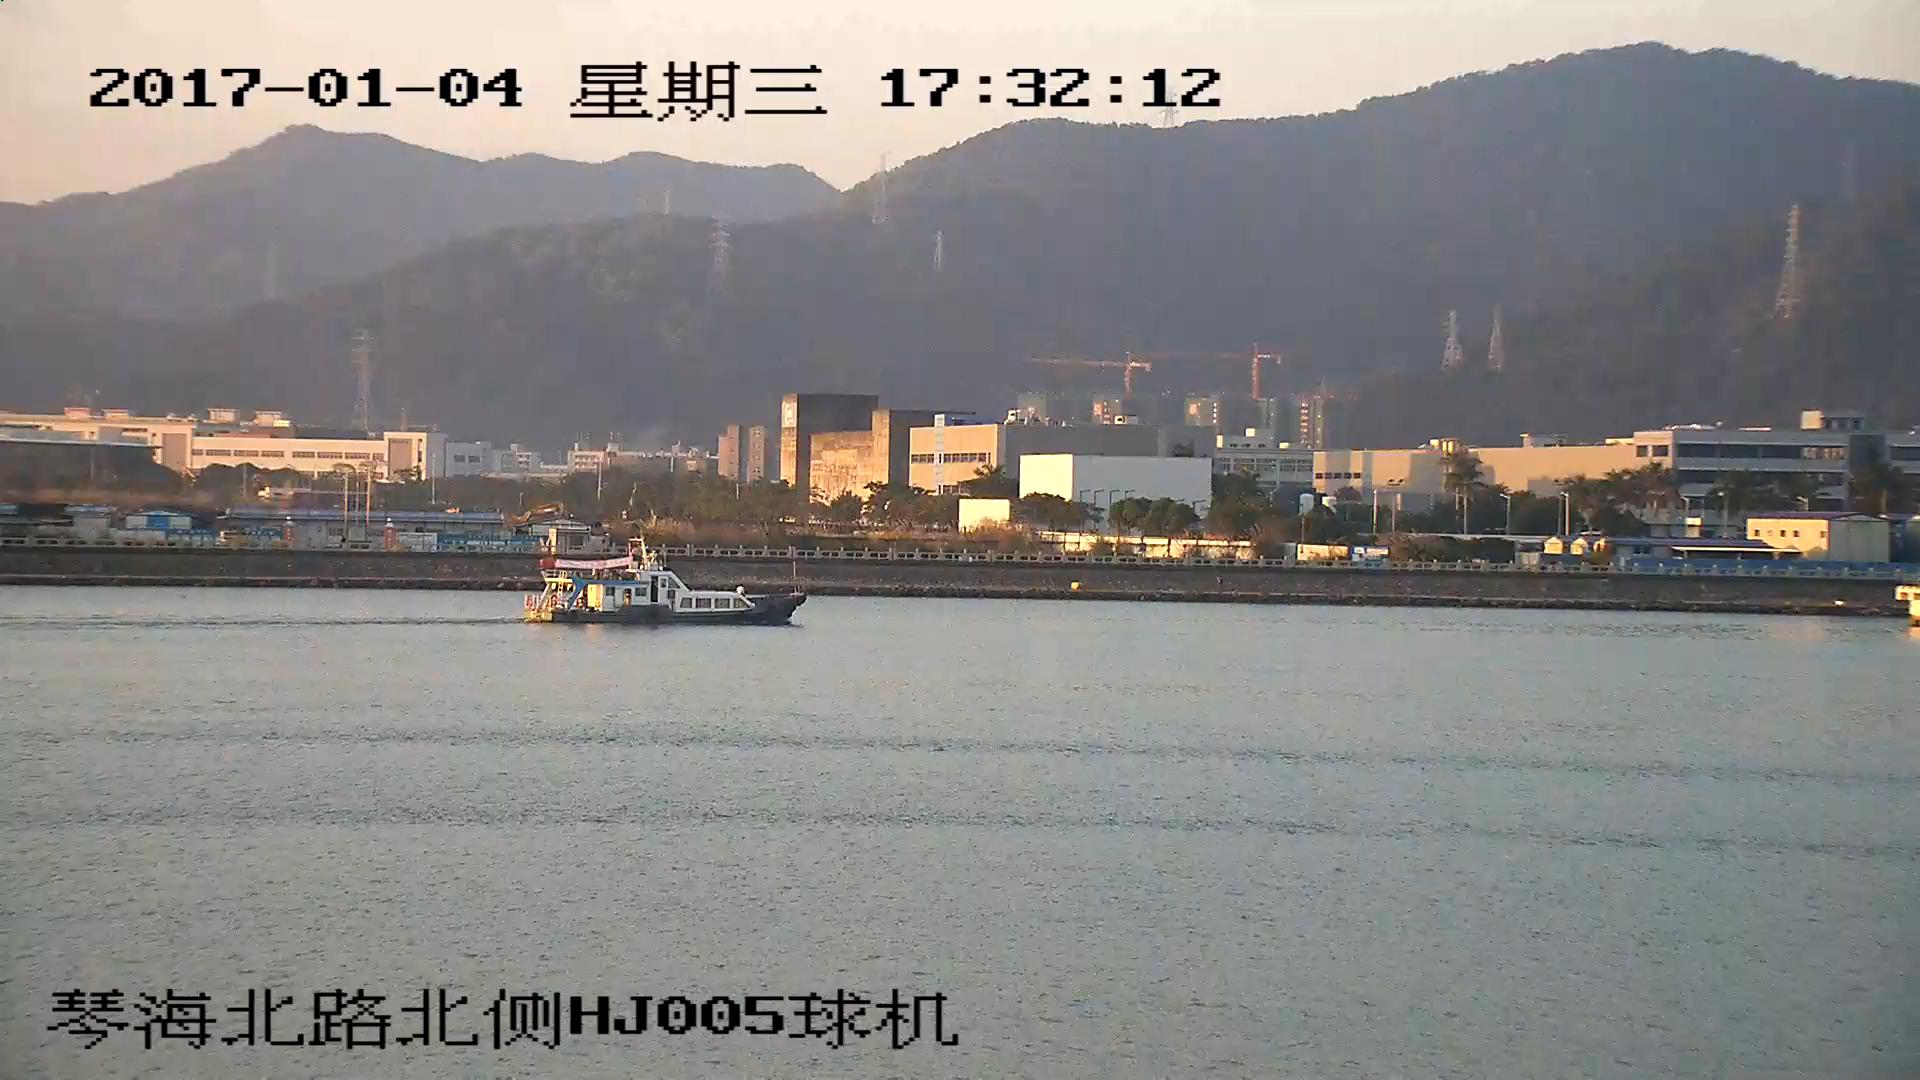fishing boat: (527, 545, 807, 628)
